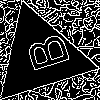B: (16, 31, 71, 77)
